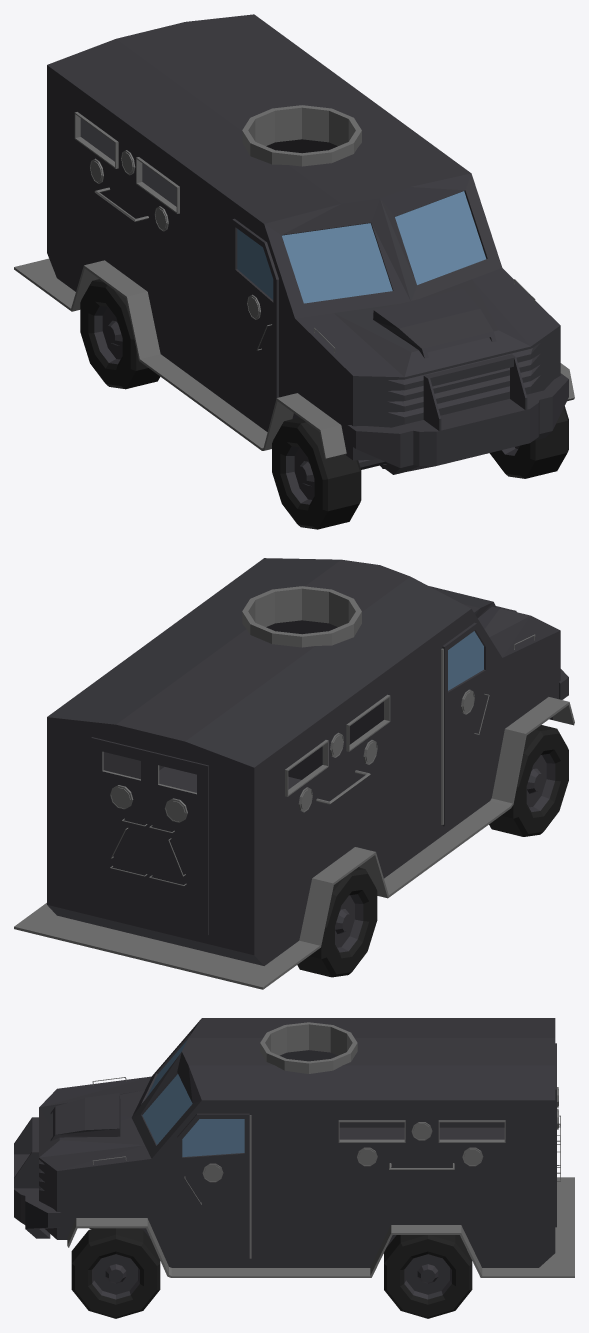
The model's file is BearCat01.fbx.
3 views of the same model, one above another, from view 1: azimuth 30°, elevation 25°; view 2: azimuth 150°, elevation 25°; view 3: azimuth 270°, elevation 25° (orthographic). The views are drawn at different scales.
Parts seen in each view (by area): view 1: BearCat; view 2: BearCat, Rear_Right, Rear_Left; view 3: BearCat, Rear_Left.
Part boxes in pixels (bbox=[...]): BearCat: bbox=[14, 14, 574, 529]; BearCat: bbox=[14, 558, 574, 989]; Rear_Right: bbox=[149, 751, 208, 935]; Rear_Left: bbox=[91, 737, 149, 920]; BearCat: bbox=[14, 1018, 574, 1318]; Rear_Left: bbox=[555, 1066, 560, 1227].
Size of the model in its own units: 240 by 259 by 576.
3 materials, 3 textured.
